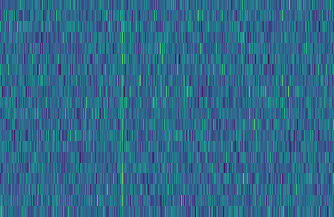signal: (115, 0, 124, 217)
